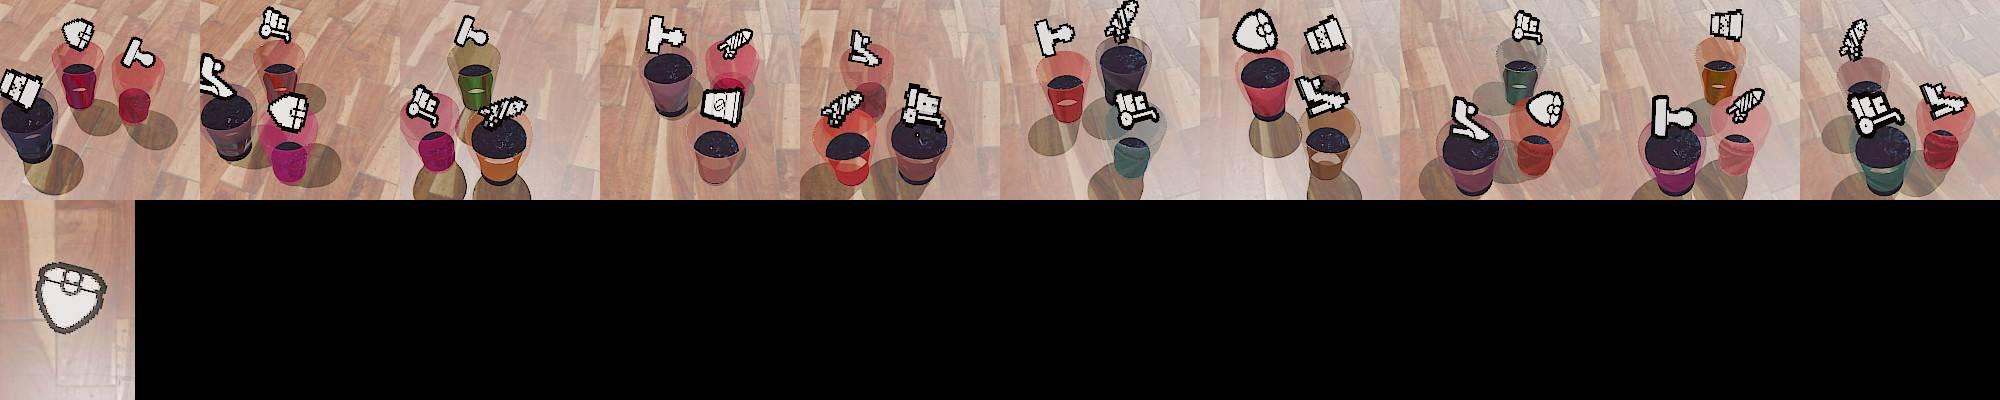icon: (34, 261, 108, 334), (1293, 74, 1351, 118), (1847, 89, 1903, 134), (899, 83, 945, 131), (1917, 80, 1969, 120), (1651, 93, 1696, 138), (1448, 94, 1490, 143), (1111, 88, 1161, 129), (1233, 8, 1277, 54), (1301, 13, 1348, 55), (267, 92, 310, 135), (1033, 15, 1077, 59), (0, 69, 43, 111), (699, 85, 744, 126), (820, 88, 865, 127), (477, 94, 529, 127), (645, 14, 686, 56), (1102, 0, 1140, 45), (1724, 85, 1767, 124), (199, 52, 233, 98), (406, 83, 441, 126), (1526, 89, 1565, 127), (1839, 18, 1870, 61), (454, 13, 490, 50), (120, 36, 158, 70), (716, 27, 754, 61), (259, 6, 293, 43), (847, 29, 880, 68), (1511, 9, 1543, 47), (1709, 8, 1744, 42), (60, 18, 96, 50)
